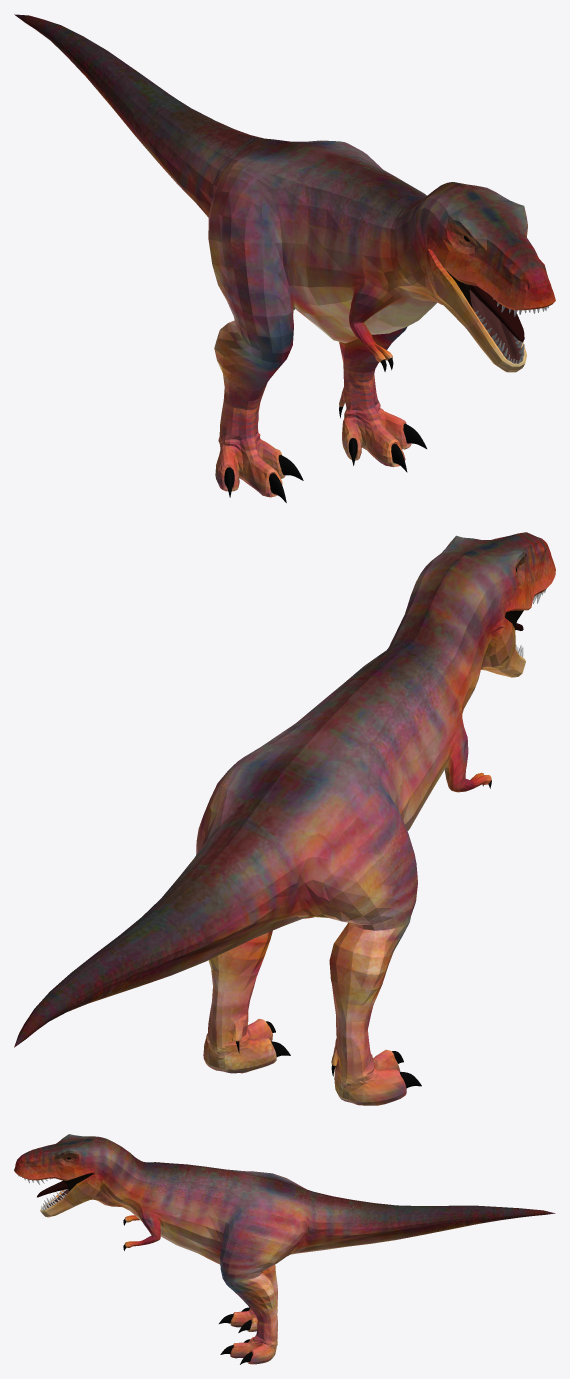
The model's file is trex.obj.
3 renders of one model, top to bottom at view 1: azimuth 30°, elevation 25°; view 2: azimuth 150°, elevation 25°; view 3: azimuth 270°, elevation 25°, orthographic. The views are drawn at different scales.
Visible parts, largest first — view 1: Mesh.003_Group002, Mesh.004_treeGroup26643, Mesh.013_treeGroup23113; view 2: Mesh.003_Group002; view 3: Mesh.003_Group002.
Part boxes in pixels (box(x1,y1,x2,y2)): Mesh.003_Group002: box(14, 14, 555, 497); Mesh.004_treeGroup26643: box(469, 290, 521, 363); Mesh.013_treeGroup23113: box(470, 285, 524, 342); Mesh.003_Group002: box(14, 532, 555, 1105); Mesh.003_Group002: box(14, 1134, 555, 1364).
Size of the model in its own units: 8.43 by 15.86 by 38.47.
Materials: 21 (1 with a texture image).
